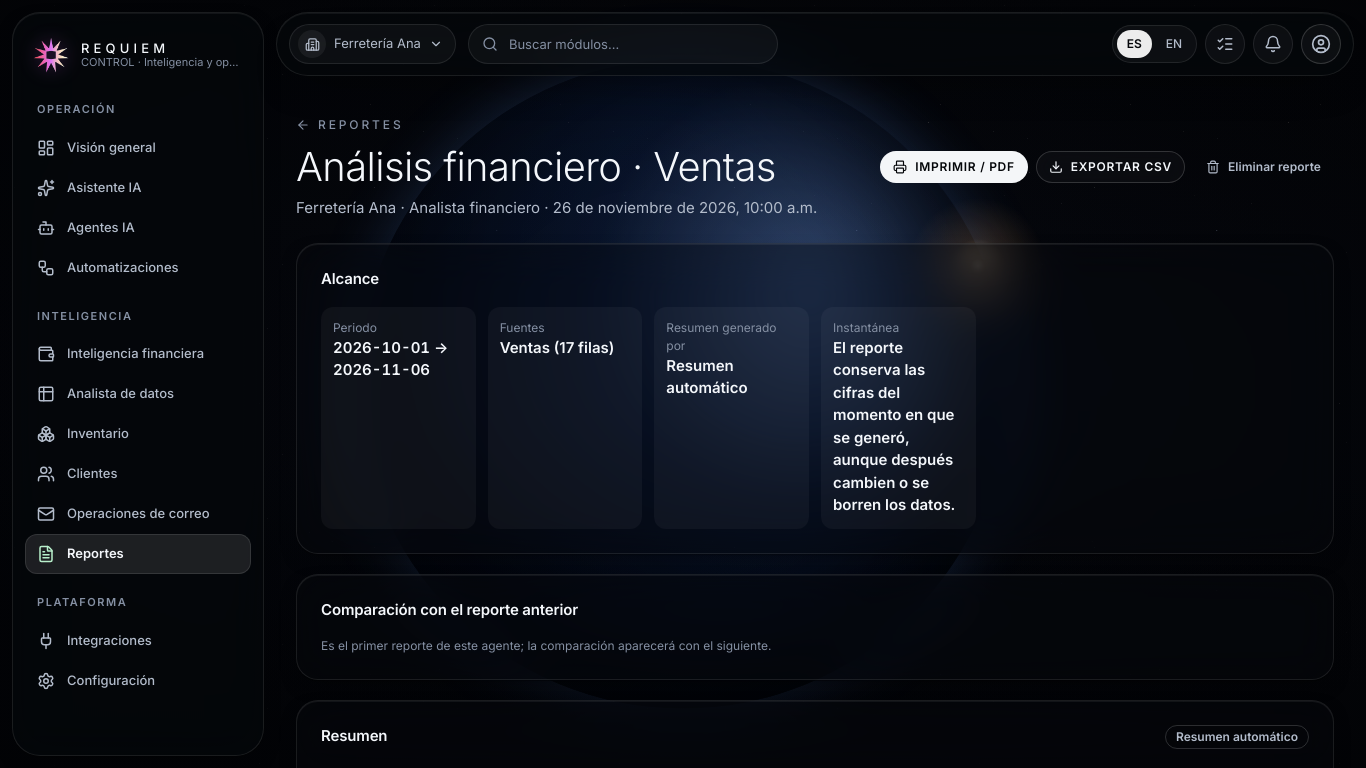
Test case: Reports › deletes a report after confirmation
Check: the text "primer reporte de este agente" is shown, box [321,638,771,653]
Click the button "Eliminar reporte". click: (1263, 167)
box: [1193,151,1334,183]
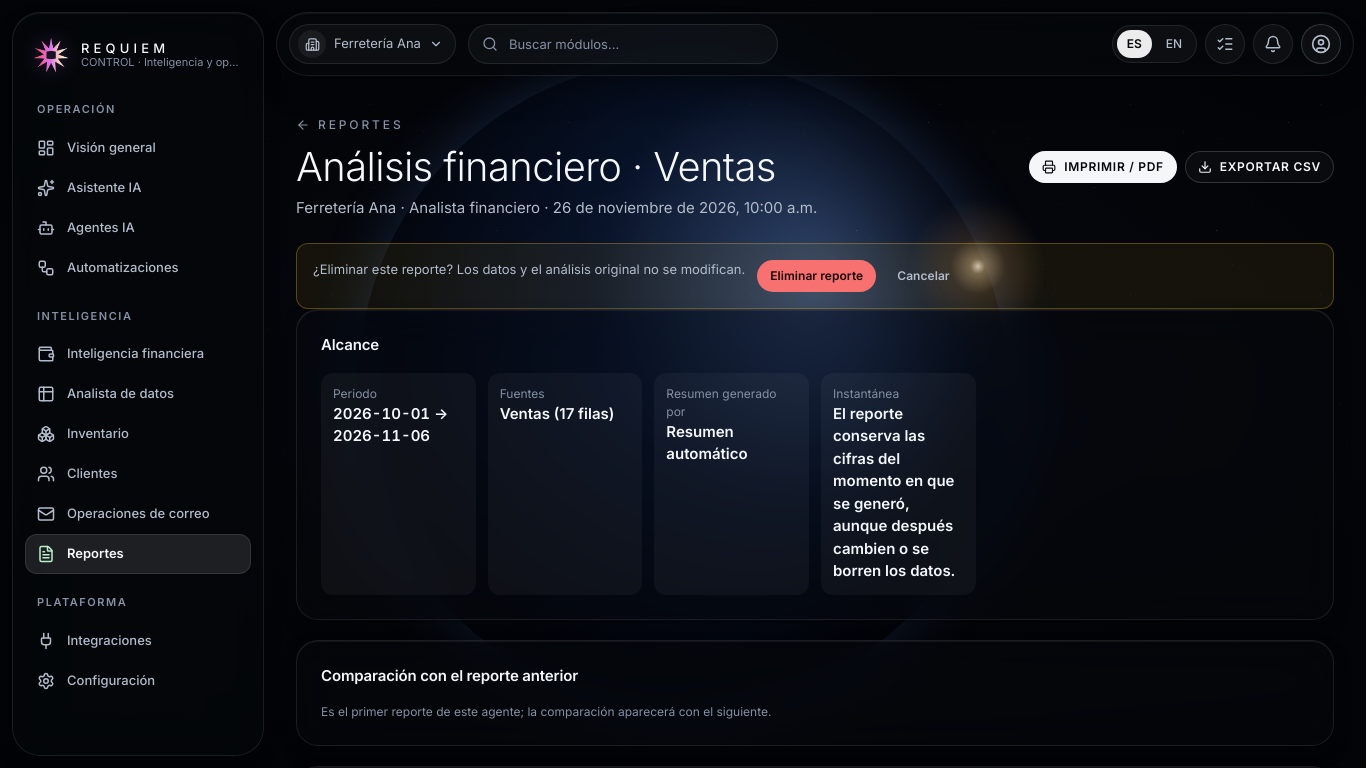
Click the button "Eliminar reporte". click: (817, 276)
box: [757,260,876,292]
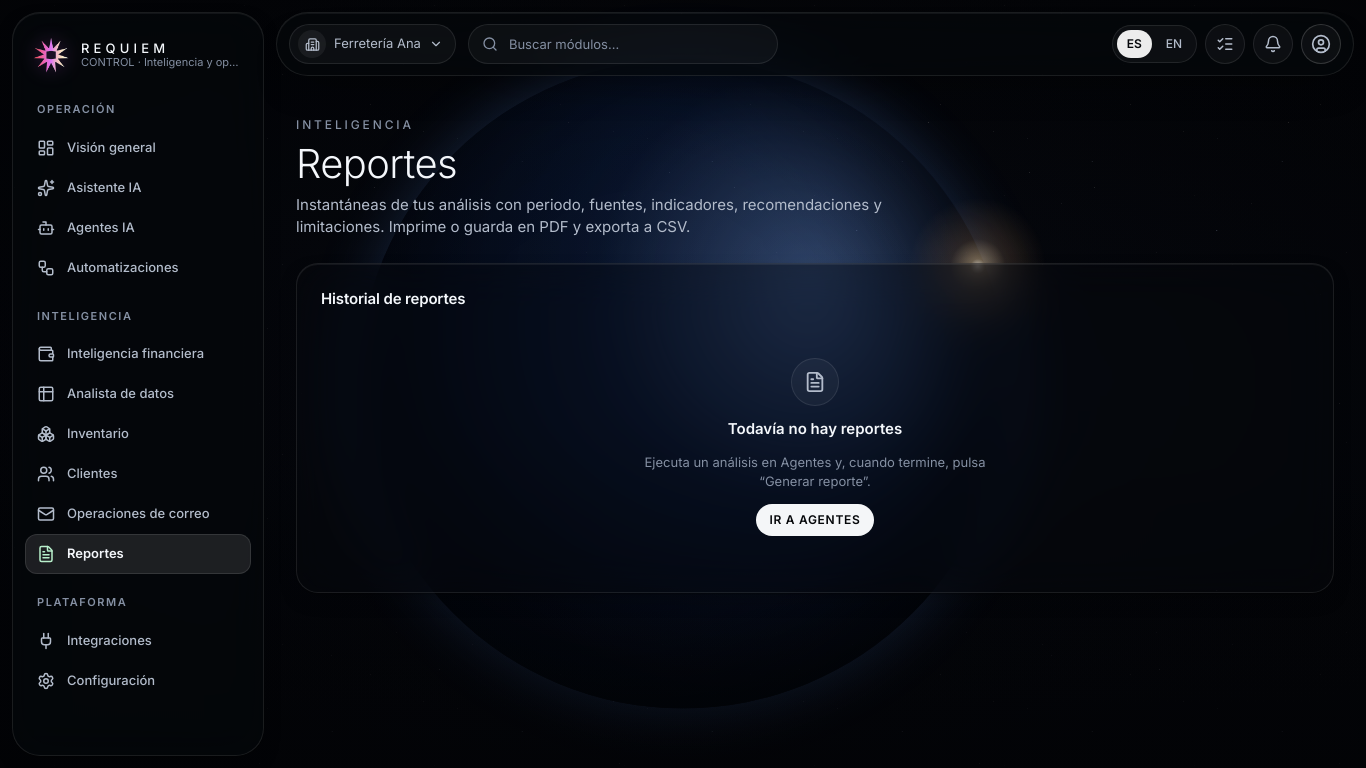
Check: the text "Todavía no hay reportes" is shown, box [728,418,902,441]
